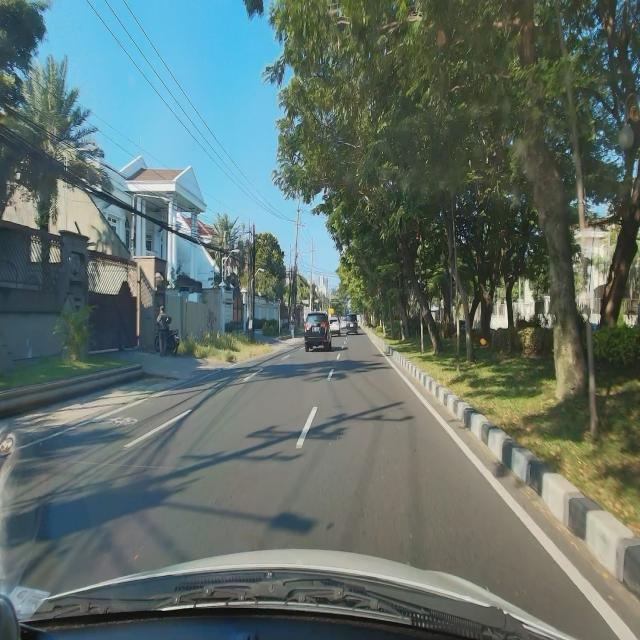car: (304, 311, 332, 353)
